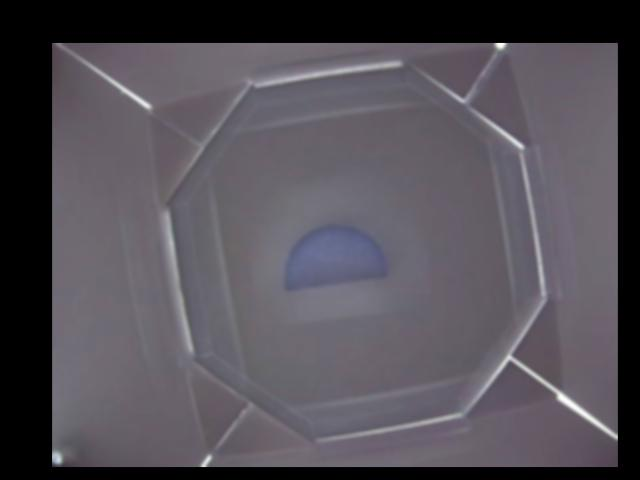Mooli: (281, 226, 389, 288)
